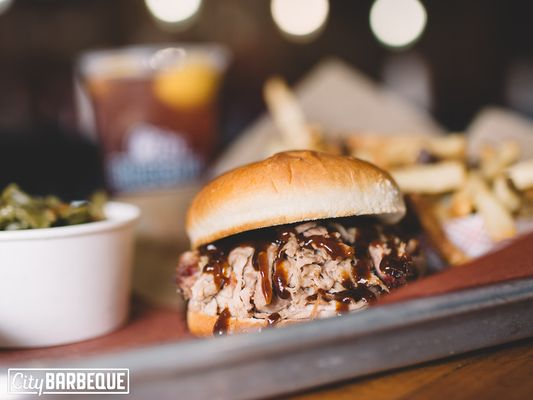soup: (176, 150, 420, 338)
sushi: (0, 201, 142, 350)
